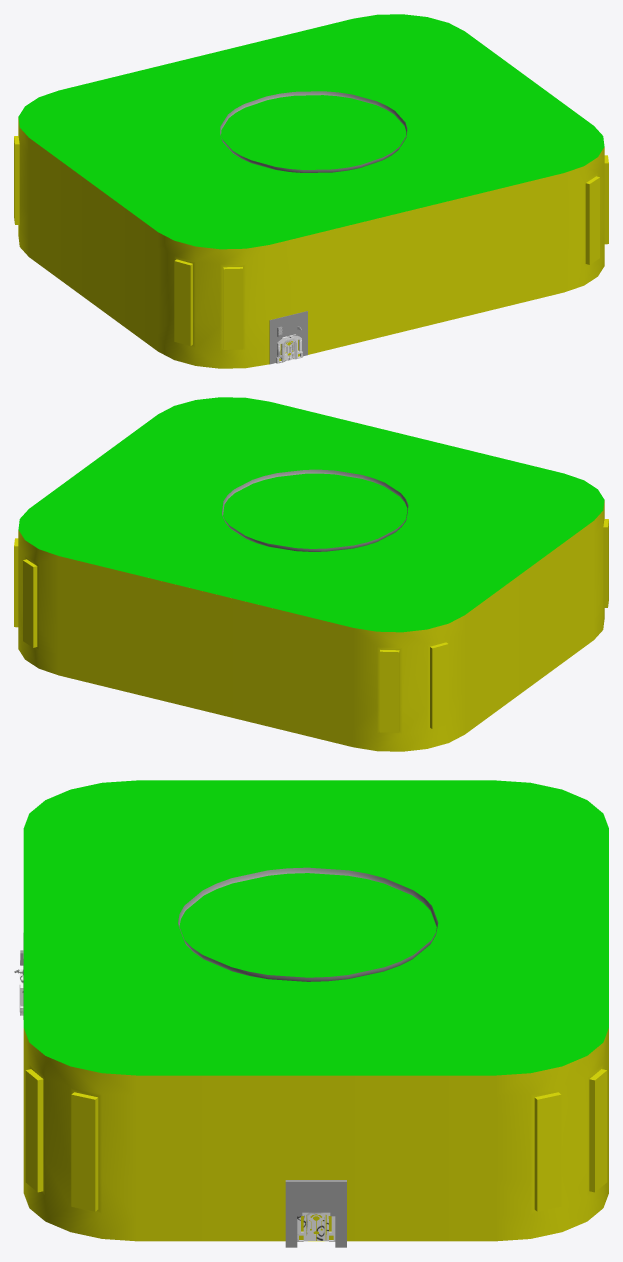
The model's file is 3d_stanza_reattore.fbx.
3 renders of one model, top to bottom at view 1: azimuth 30°, elevation 25°; view 2: azimuth 150°, elevation 25°; view 3: azimuth 270°, elevation 25°, orthographic. The views are drawn at different scales.
Visible parts, largest first — view 1: soffitto, stanza, reattore, estremità_muro; view 2: soffitto, stanza, reattore; view 3: soffitto, stanza, estremità_muro, reattore, struttura_porta.
Part boxes in pixels (x1=…): soffitto: x1=18, y1=14, x2=604, y2=249; stanza: x1=14, y1=117, x2=608, y2=368; reattore: x1=220, y1=91, x2=407, y2=172; estremità_muro: x1=269, y1=311, x2=307, y2=364; soffitto: x1=18, y1=397, x2=604, y2=632; stanza: x1=14, y1=500, x2=608, y2=751; reattore: x1=222, y1=469, x2=408, y2=551; soffitto: x1=23, y1=780, x2=608, y2=1075; stanza: x1=23, y1=1028, x2=608, y2=1241; estremità_muro: x1=285, y1=1180, x2=346, y2=1247; reattore: x1=178, y1=867, x2=438, y2=981; struttura_porta: x1=297, y1=1212, x2=335, y2=1241.
Size of the model in its own units: 57.66 by 15.82 by 48.8.
Materials: 6 (1 with a texture image).
